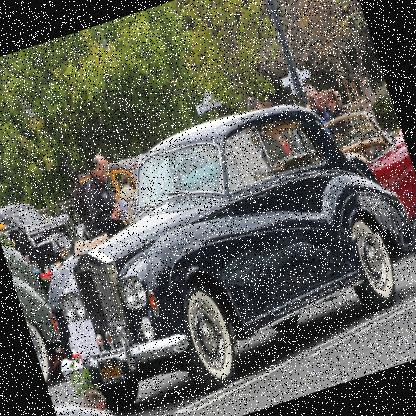Car: (9, 76, 415, 415), (262, 96, 415, 260), (0, 213, 75, 389), (0, 184, 92, 276), (78, 150, 176, 235), (144, 140, 224, 212)
